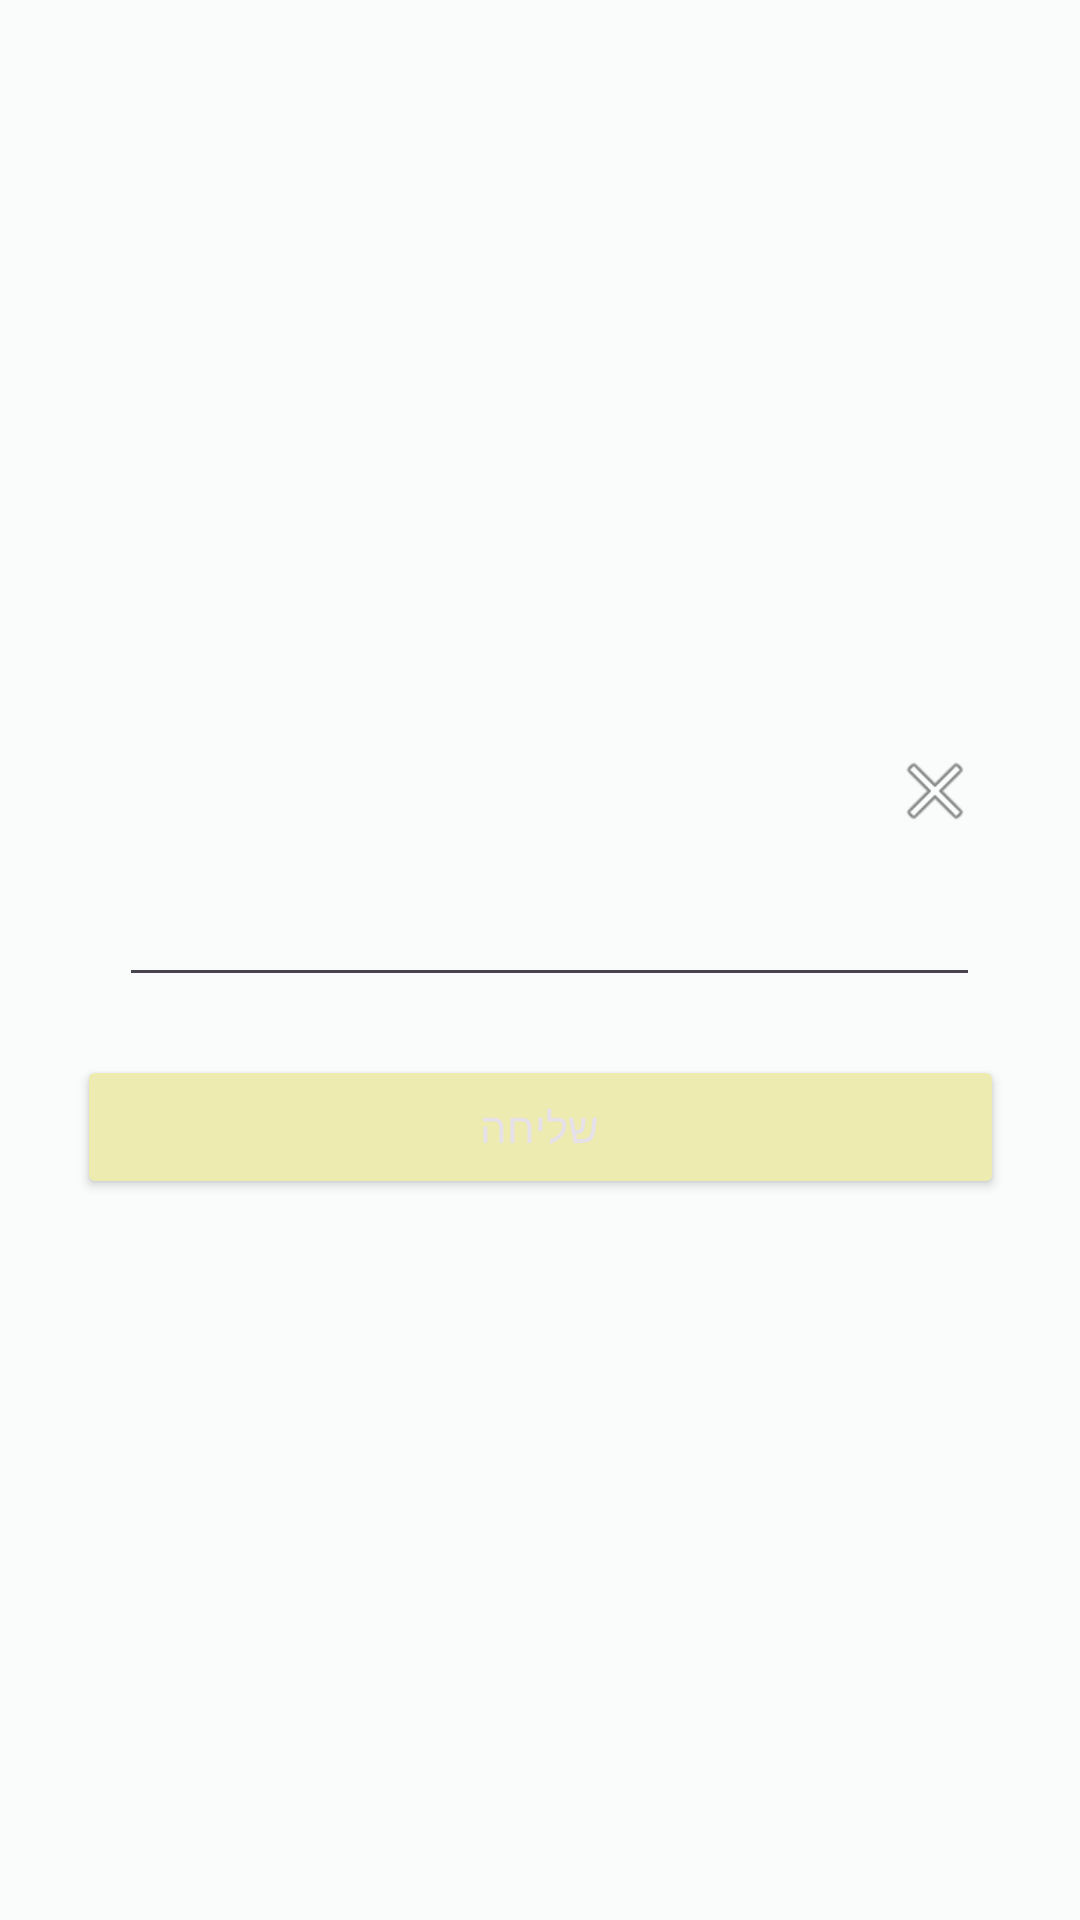

Where icons sit on this 1080px x 1920px app screen, as (x1, y1, x2, y2):
close clear cancel: (907, 763, 963, 819)
